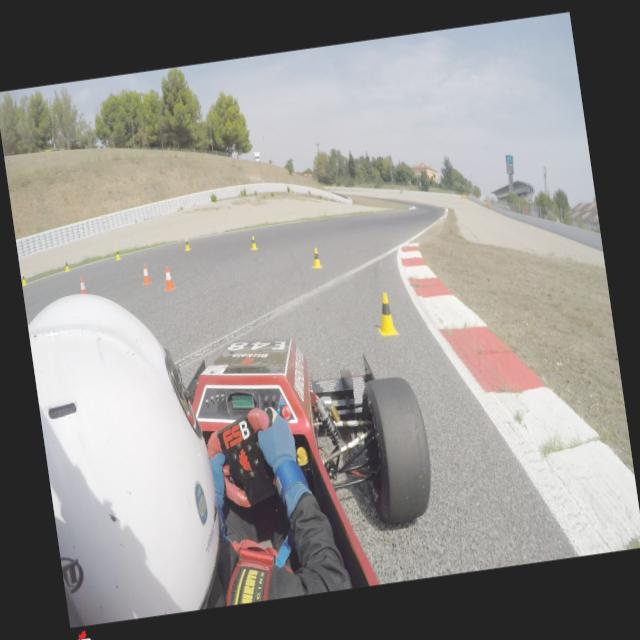orange_cone: (162, 266, 176, 292), (140, 262, 153, 286), (78, 276, 88, 295)
yellow_cone: (373, 290, 399, 338), (310, 247, 323, 270), (249, 235, 258, 250), (183, 237, 191, 251), (21, 272, 28, 286), (114, 248, 122, 260), (64, 260, 70, 272)
